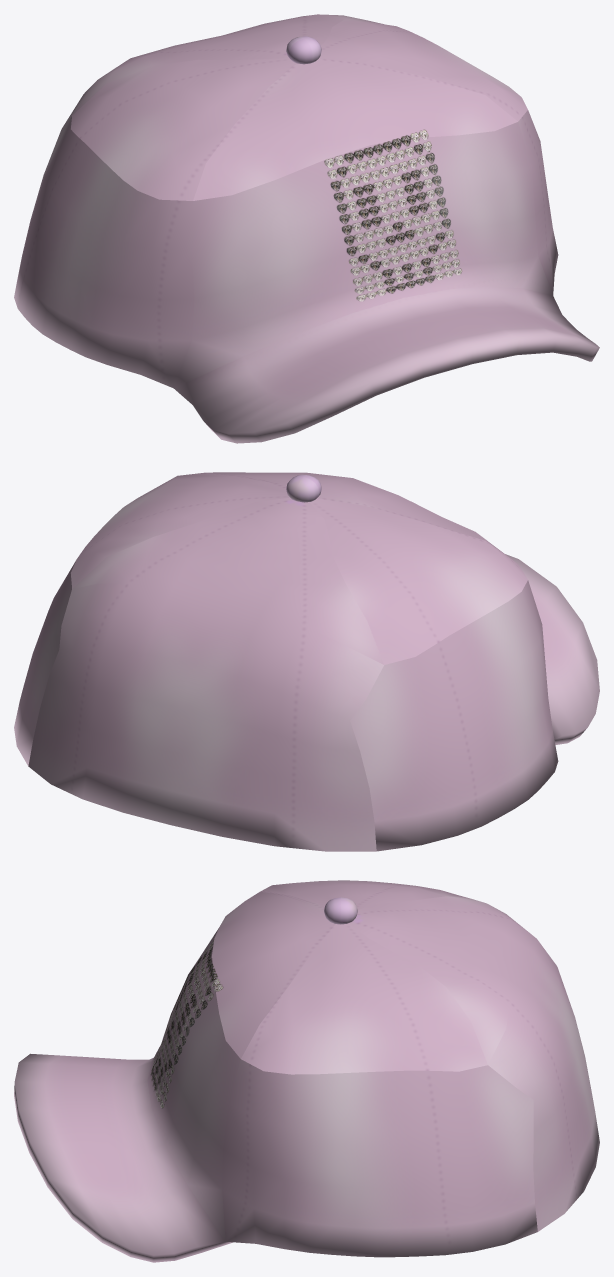
Rendered from Rhinestone_Skull_Hat.glb.
3 views of the same model, one above another, from view 1: azimuth 30°, elevation 25°; view 2: azimuth 150°, elevation 25°; view 3: azimuth 270°, elevation 25° (orthographic). The views are drawn at different scales.
Parts seen in each view (by area): view 1: Rhinestone_Skull_Hat; view 2: Rhinestone_Skull_Hat; view 3: Rhinestone_Skull_Hat.
Boxes of the visible parts, bbox=[...] form: Rhinestone_Skull_Hat: bbox=[14, 14, 599, 443]; Rhinestone_Skull_Hat: bbox=[14, 472, 599, 851]; Rhinestone_Skull_Hat: bbox=[14, 880, 599, 1262].
Size of the model in its own units: 1.04 by 0.5879 by 1.12.
1 material, 1 textured.
